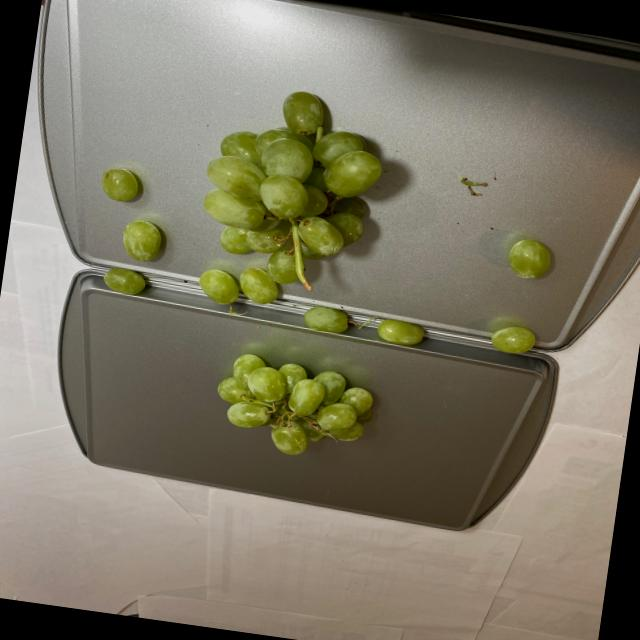grapes: (87, 72, 574, 366), (216, 348, 385, 466)
